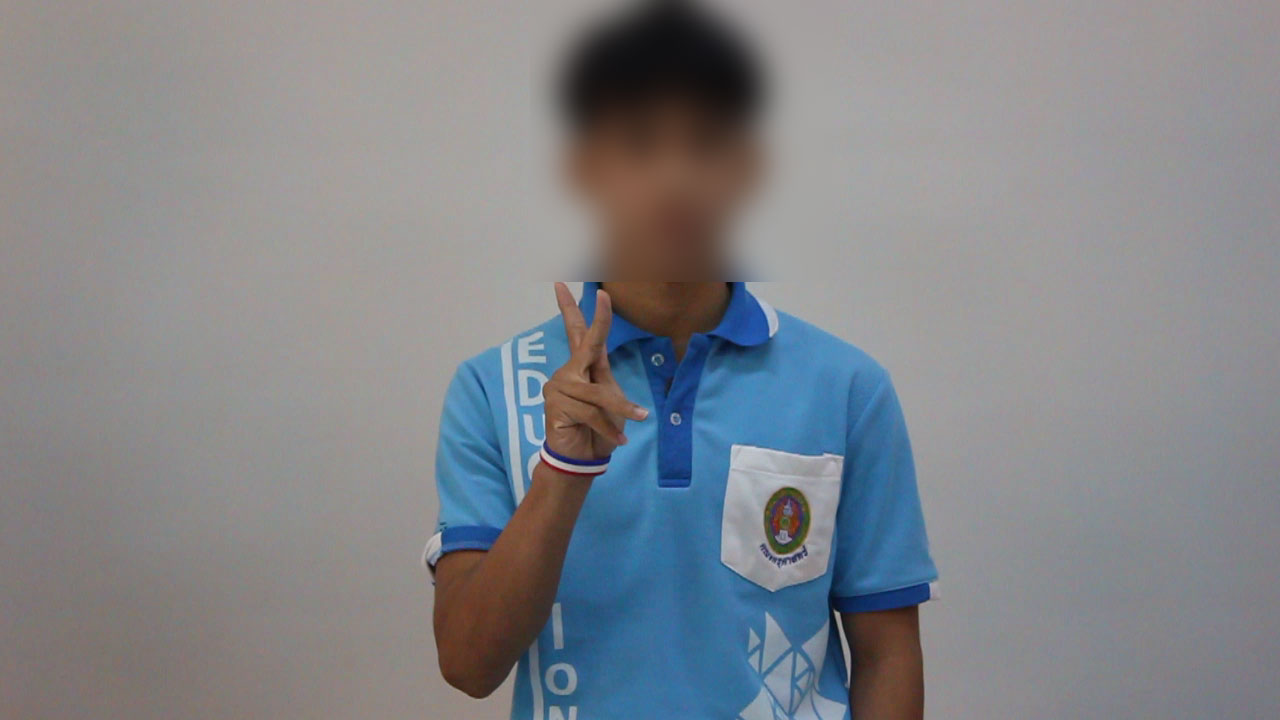ko: (522, 272, 660, 463)
